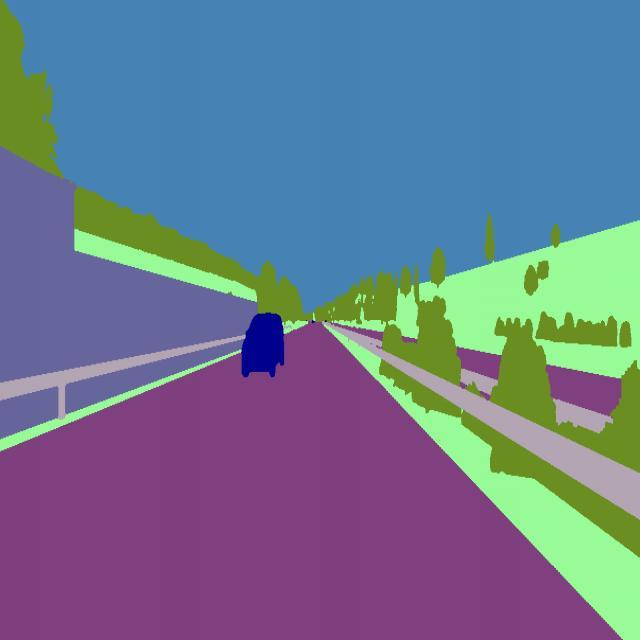safe: (236, 307, 290, 384)
